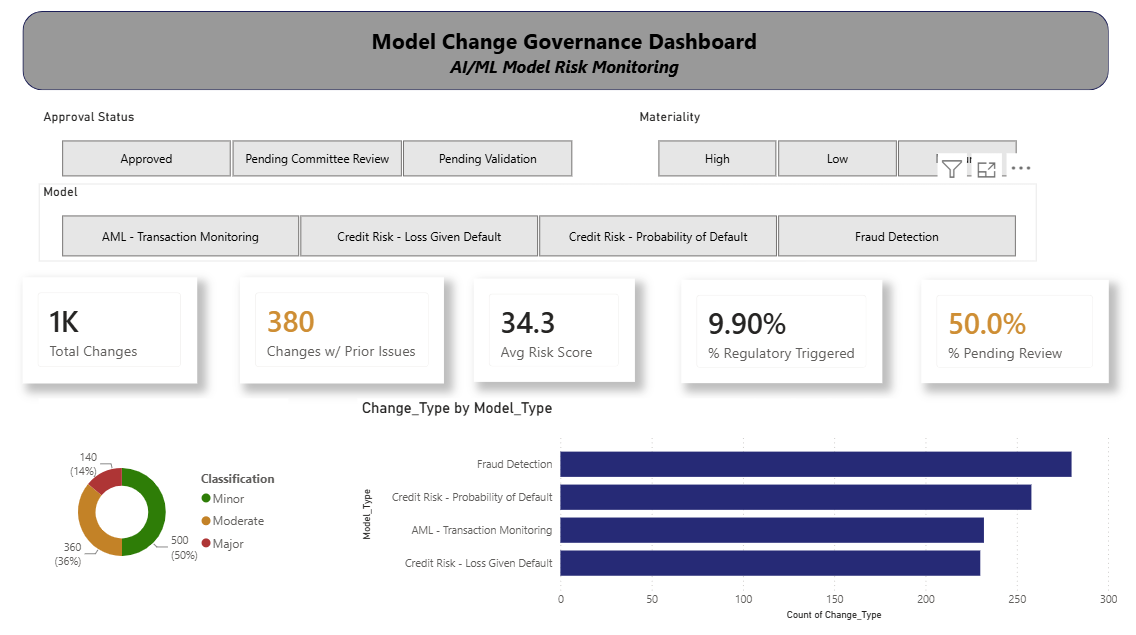

Layout of this report page (visuals, bound fields, positions):
{"tool":"powerbi","page":{"name":"Overview","canvas":[1280,720],"ordinal":0},"visuals":[{"type":"cardVisual","fields":{"Data":["_Measures.% Regulatory Triggered"]},"box":[769.7,317.8,225.8,116.4],"z":0},{"type":"cardVisual","fields":{"Data":["_Measures.Avg Risk Score"]},"box":[536.5,316.4,180.9,116.4],"z":1000},{"type":"cardVisual","fields":{"Data":["_Measures.Changes w/ Prior Issues"]},"box":[275.5,314.9,229.1,118.9],"z":2000},{"type":"cardVisual","fields":{"Data":["_Measures.Total Changes"]},"box":[30.6,314.9,195.8,118.9],"z":3000},{"type":"donutChart","title":"Classification by Classification","fields":{"Category":["Governance.Classification"],"Y":["CountNonNull(Governance.Classification)"]},"box":[49.6,451.9,279.9,255.1],"z":4000},{"type":"clusteredBarChart","title":"Change_Type by Model_Type","fields":{"Y":["CountNonNull(Governance.Change_Type)"],"Category":["Governance.Model_Type"]},"box":[406.7,451.9,857.2,253.7],"z":5000},{"type":"cardVisual","fields":{"Data":["_Measures.% Pending Review"]},"box":[1039.5,317.8,210.3,116.4],"z":6000},{"type":"shape","box":[30.6,17.5,1218.8,88.9],"z":7000},{"type":"textbox","box":[56.1,29.4,1165.3,75.7],"z":8000},{"type":"slicer","title":"Materiality","fields":{"Values":["Governance.Materiality"]},"box":[717.3,126.8,451.9,83.1],"z":9000},{"type":"slicer","title":"Approval Status","fields":{"Values":["Governance.Approval_Status"]},"box":[49.6,126.8,622.5,83.1],"z":10000},{"type":"slicer","title":"Model","fields":{"Values":["Governance.Model_Type"]},"box":[49.6,209.9,1119.6,88.9],"z":11000}]}

Visuals, with their boxes in screenshot pixels (x1, y1, x2, y2), scaled from the page's 1280x720 canvas onto the 1136x635 screenshot:
cardVisual - _Measures.% Regulatory Triggered: <bbox>683, 280, 884, 383</bbox>
cardVisual - _Measures.Avg Risk Score: <bbox>476, 279, 637, 382</bbox>
cardVisual - _Measures.Changes w/ Prior Issues: <bbox>245, 278, 448, 383</bbox>
cardVisual - _Measures.Total Changes: <bbox>27, 278, 201, 383</bbox>
"Classification by Classification" donutChart: <bbox>44, 399, 292, 624</bbox>
"Change_Type by Model_Type" clusteredBarChart: <bbox>361, 399, 1122, 622</bbox>
cardVisual - _Measures.% Pending Review: <bbox>923, 280, 1109, 383</bbox>
shape: <bbox>27, 15, 1109, 94</bbox>
textbox: <bbox>50, 26, 1084, 93</bbox>
"Materiality" slicer: <bbox>637, 112, 1038, 185</bbox>
"Approval Status" slicer: <bbox>44, 112, 596, 185</bbox>
"Model" slicer: <bbox>44, 185, 1038, 264</bbox>
